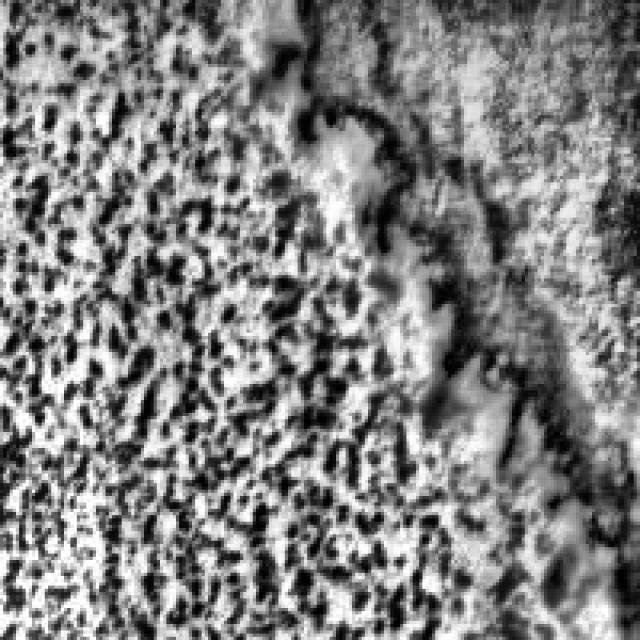Rolled_in_Scale: (0, 32, 522, 630)
Scratches: (291, 0, 627, 627)
